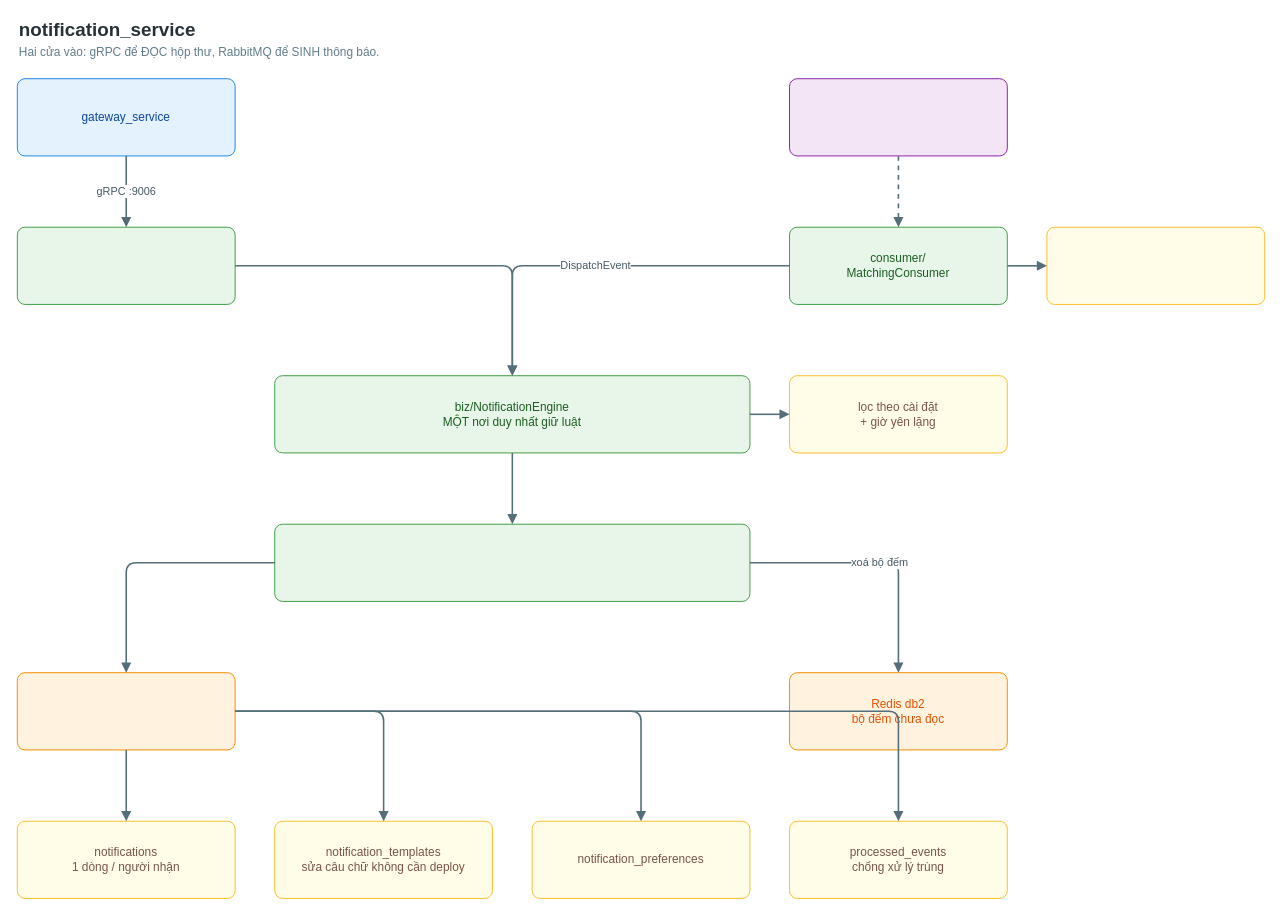
Some shapes in this 1282 by 916 pixel diagram are drawn without their labels. The shapes that lost their labels are listed below. From the top down, each one's centre as x and y in pixels, then its label:
point (898, 117): RabbitMQ binding matching.#
point (125, 265): controller/ 15 RPC — chỉ ĐỌC + admin
point (1155, 265): ACK: hỏng / trùng / lạ NACK: lỗi tạm thời
point (512, 562): repo/ CreateWithEventGuard
point (125, 711): Postgres
